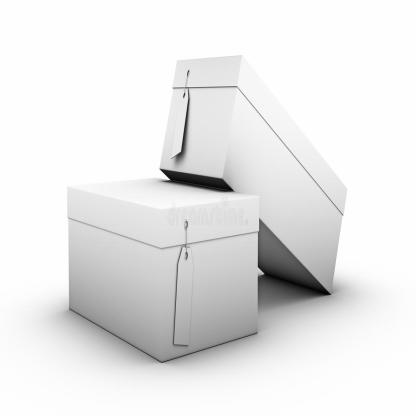box: (162, 53, 348, 302), (62, 175, 261, 349)
